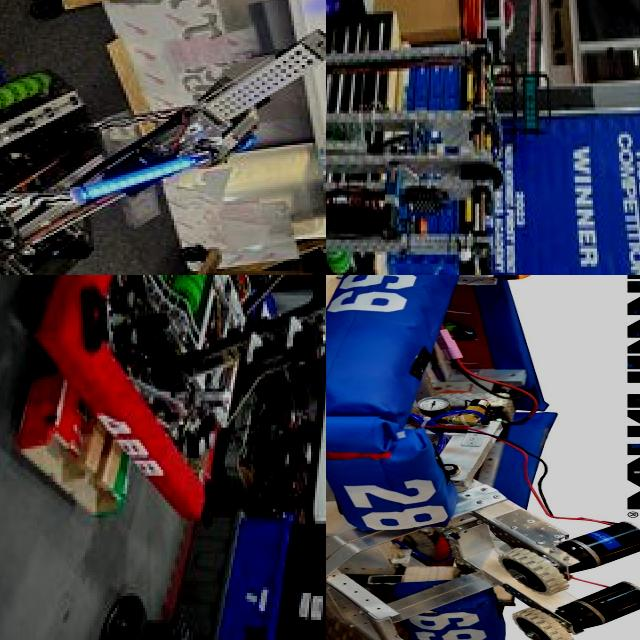FRC-Robots: (326, 275, 640, 640), (0, 0, 326, 275), (6, 275, 326, 531), (326, 0, 527, 275)
